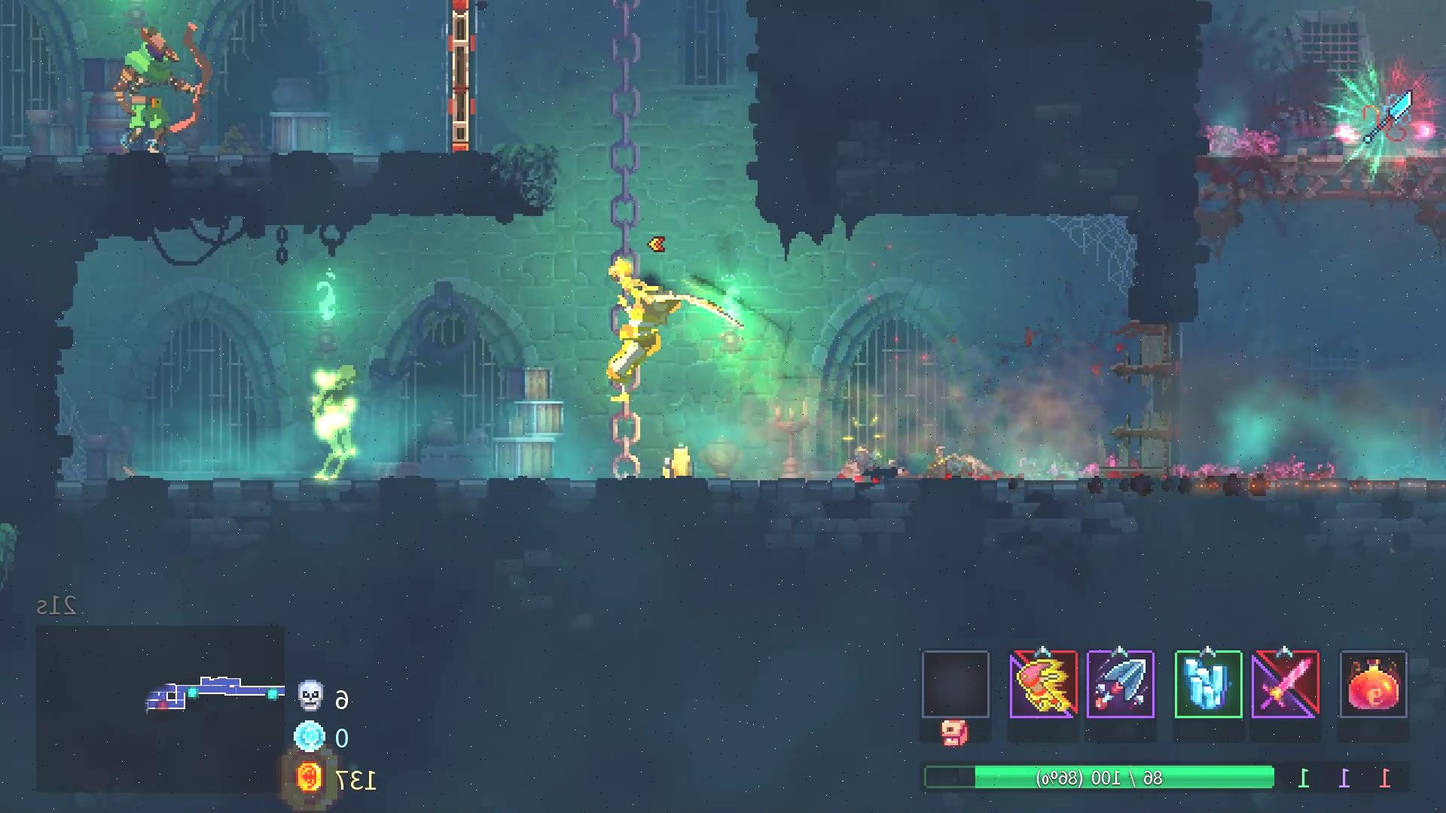gamer: (599, 240, 704, 402)
green1: (302, 360, 375, 477)
